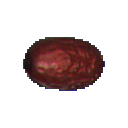gd: (18, 21, 107, 103)
